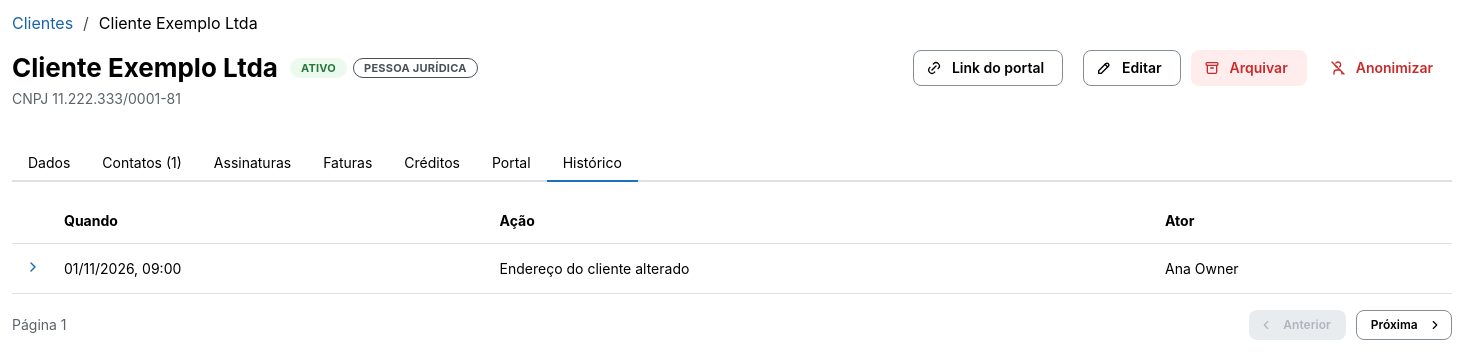
Test case: histórico do cliente › pagina por cursor e volta para a página anterior
Check: the text "Endereço do cliente alterado" is shown, box x1=500 y1=260 x2=689 y2=277
Check: the text "Página 1" is shown, box x1=12 y1=315 x2=67 y2=335
What coordinates should you click on to do the following:
click the button "Próxima"
I would click on:
 (1404, 325)
Its box is x1=1356 y1=310 x2=1452 y2=340.
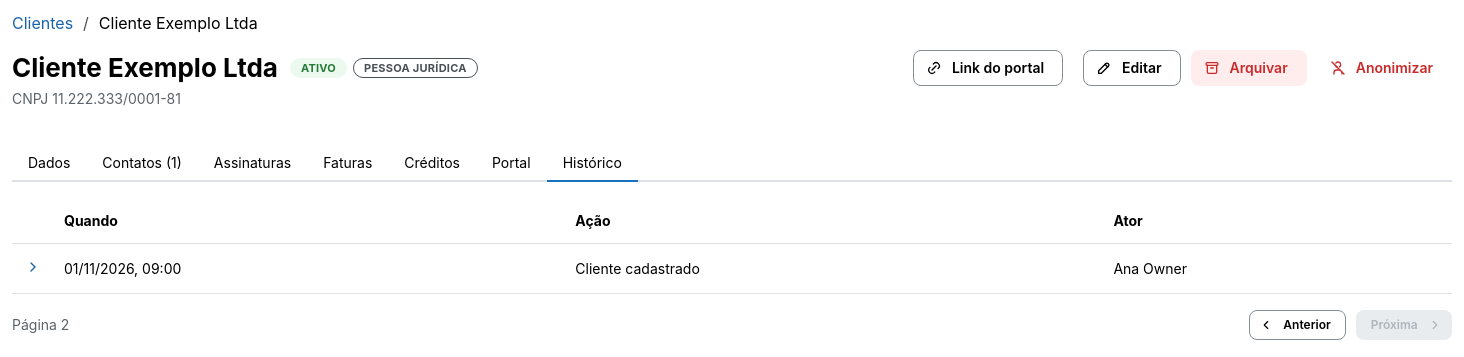
Check: the text "Cliente cadastrado" is shown, box x1=575 y1=260 x2=700 y2=277
Check: the text "Endereço do cliente alterado" is gone
Check: the text "Página 2" is shown, box x1=12 y1=315 x2=69 y2=335
What coordinates should you click on to do the following:
click the button "Anterior"
I would click on:
 (1297, 325)
Its box is x1=1249 y1=310 x2=1346 y2=340.
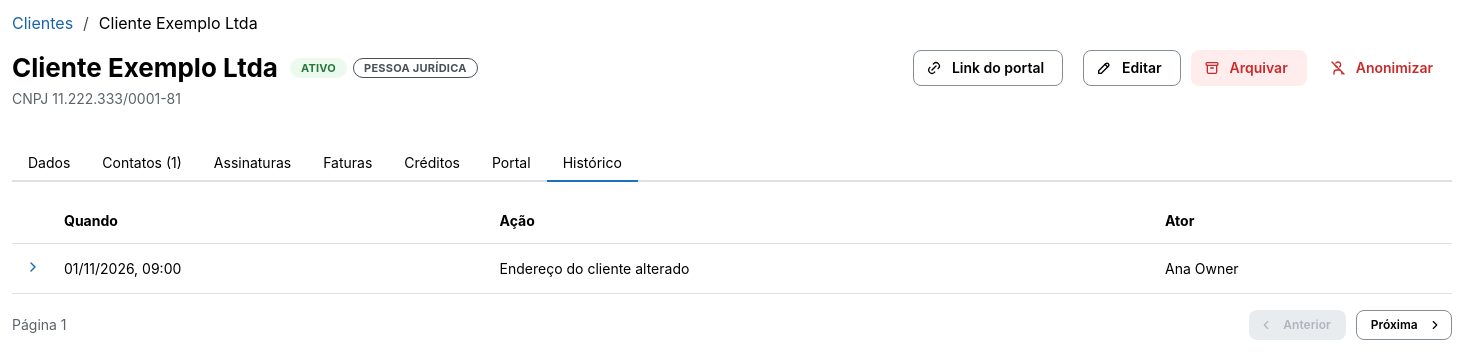
Check: the text "Endereço do cliente alterado" is shown, box x1=500 y1=260 x2=689 y2=277
